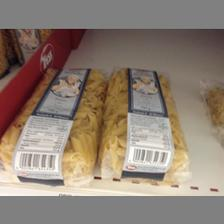Nudeln: (99, 58, 194, 186), (0, 65, 100, 182)
